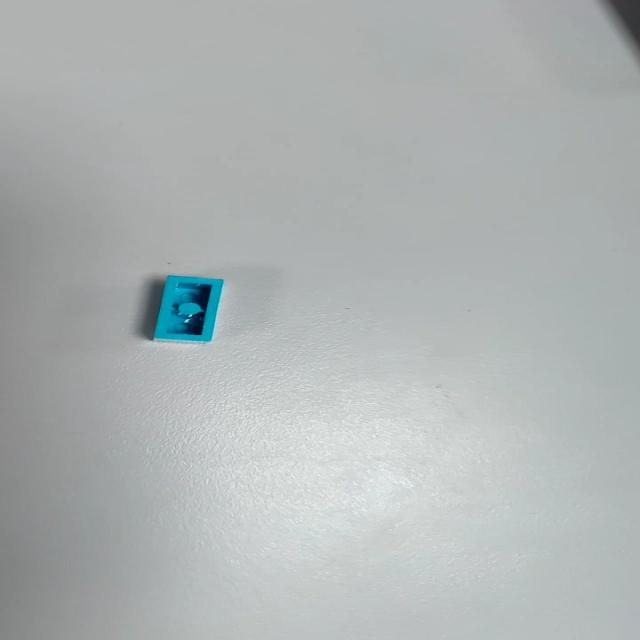C2x1x1: (151, 274, 225, 344)
